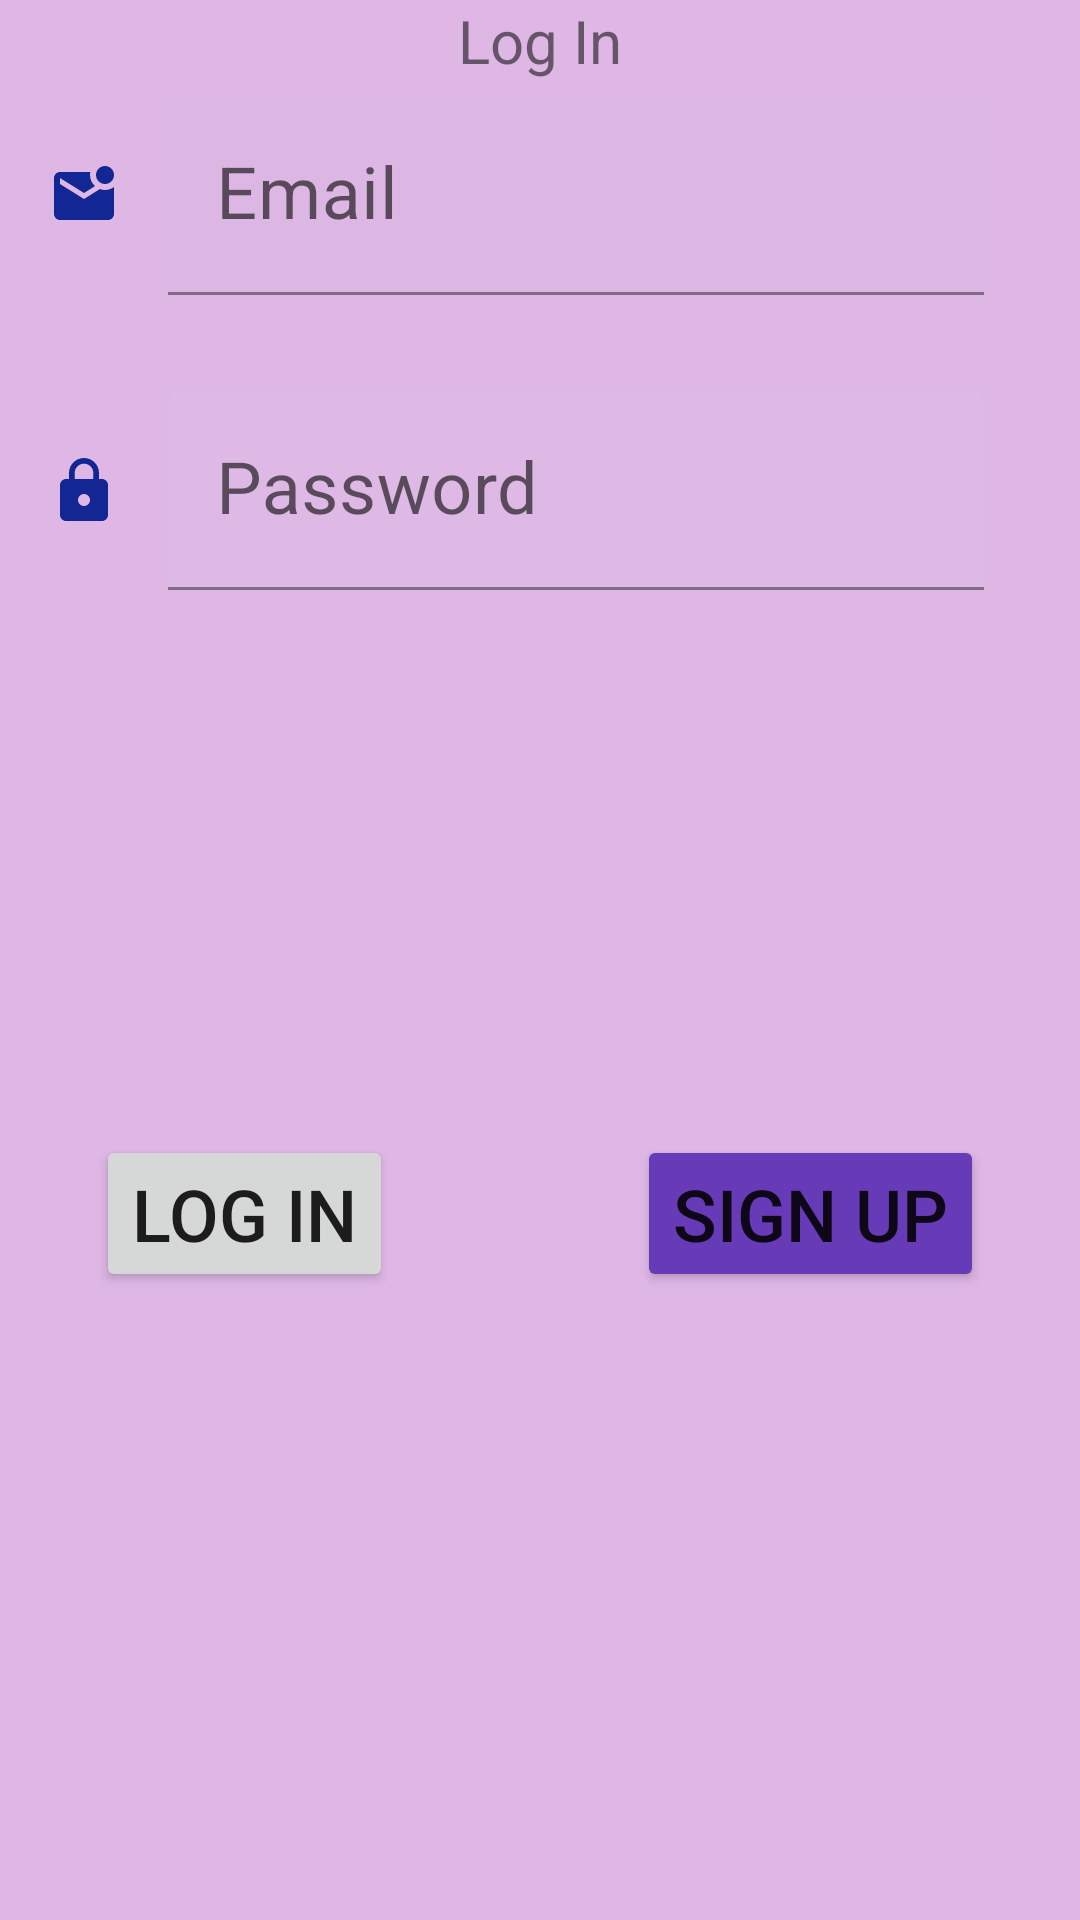

Icon bounding boxes for this 1080px x 1920px phone screenshot, format [x1=x1, y1=y1, x2=x2, y2=y2]:
lock: [x1=60, y1=458, x2=108, y2=521]
mark email unread: [x1=54, y1=166, x2=114, y2=220]
